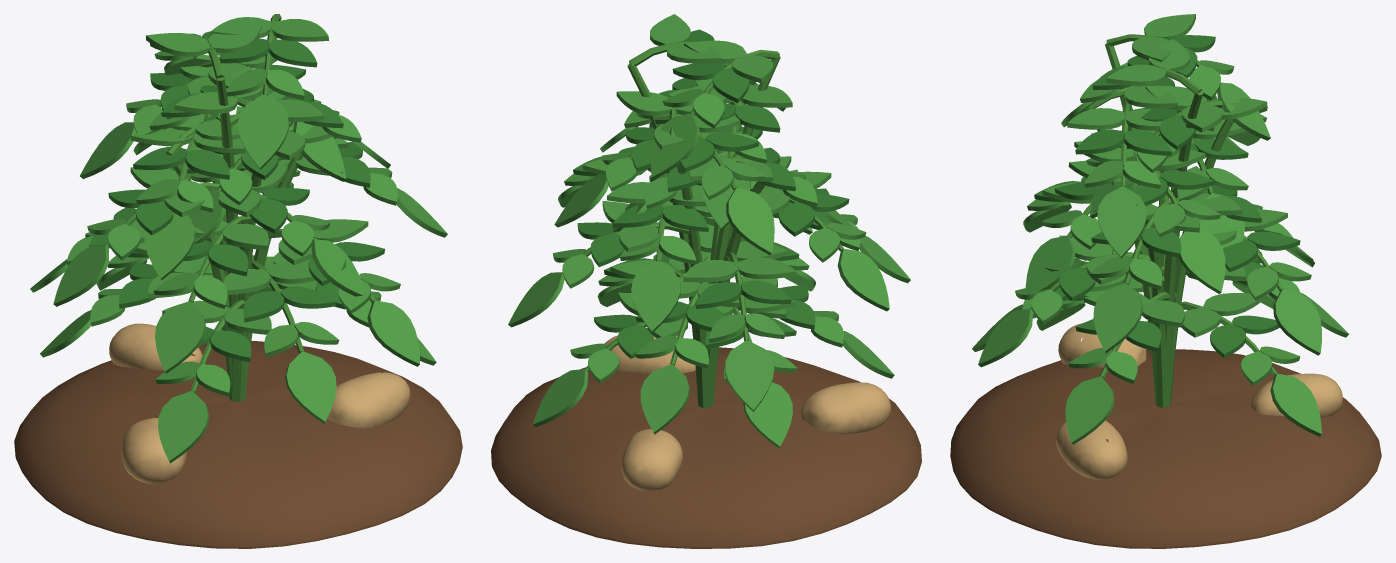
3 renders of one model, left to right at view 1: azimuth 30°, elevation 25°; view 2: azimuth 150°, elevation 25°; view 3: azimuth 270°, elevation 25°, orthographic. The views are drawn at different scales.
Visible parts, largest first — view 1: body; view 2: body; view 3: body.
Part boxes in pixels (box(x1,y1,x2,y2)): body: box(14, 14, 462, 548); body: box(491, 14, 921, 548); body: box(950, 14, 1381, 548).
Bounding box in the file's own units: 0.26 × 0.2715 × 0.26.
Materials: 1 (1 with a texture image).
